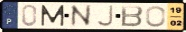0: (20, 4, 38, 27)
B: (120, 5, 145, 28)
J: (96, 5, 115, 28)
M: (40, 4, 66, 27)
N: (69, 4, 92, 28)
O: (145, 5, 167, 28)
